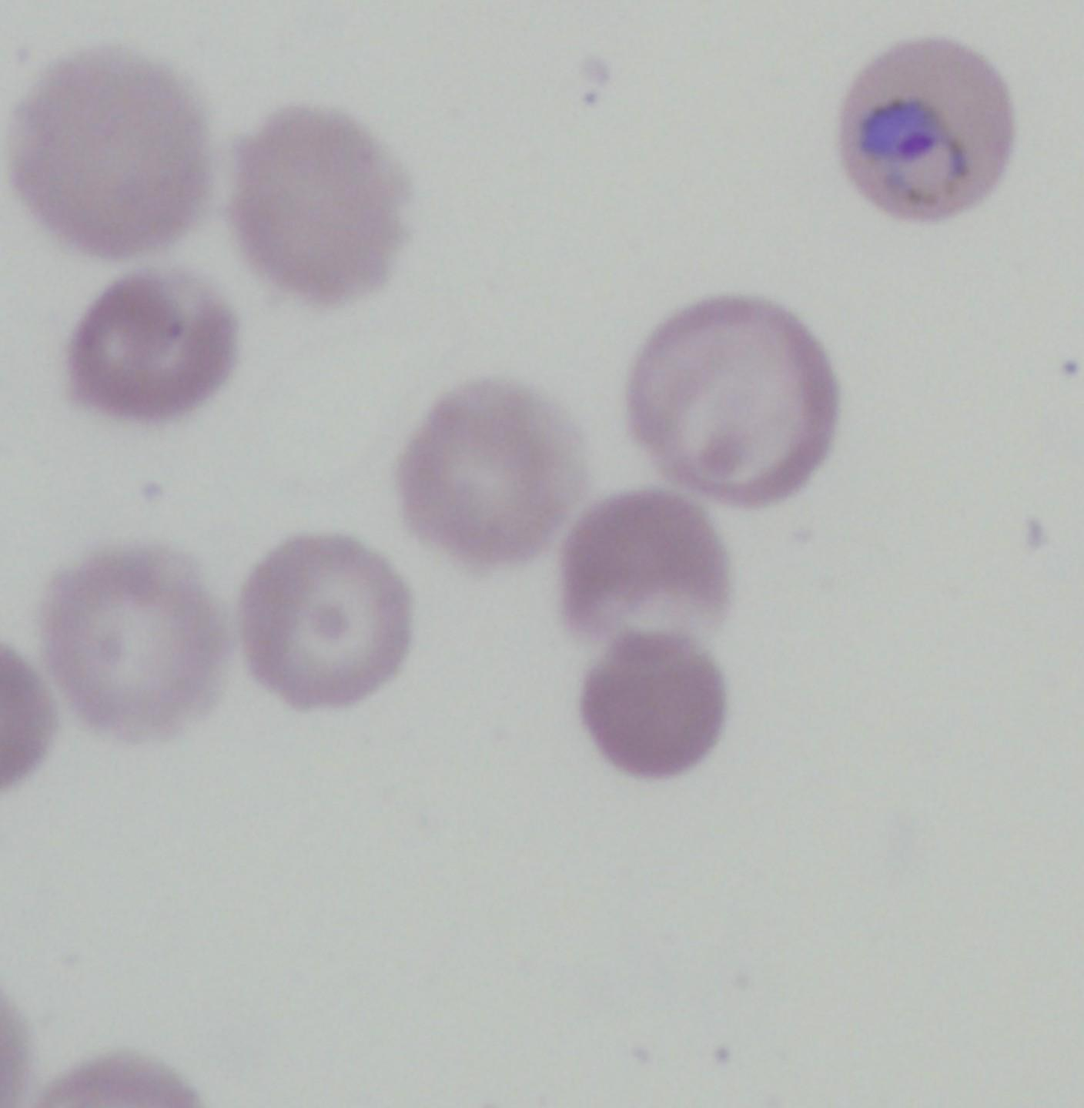Infected: (835, 35, 1014, 221)
Uninfected: (639, 301, 843, 505), (18, 55, 206, 250), (33, 543, 221, 736), (398, 383, 586, 568), (235, 106, 407, 305), (233, 537, 412, 712), (67, 268, 239, 418), (564, 487, 720, 652), (585, 632, 724, 773)
